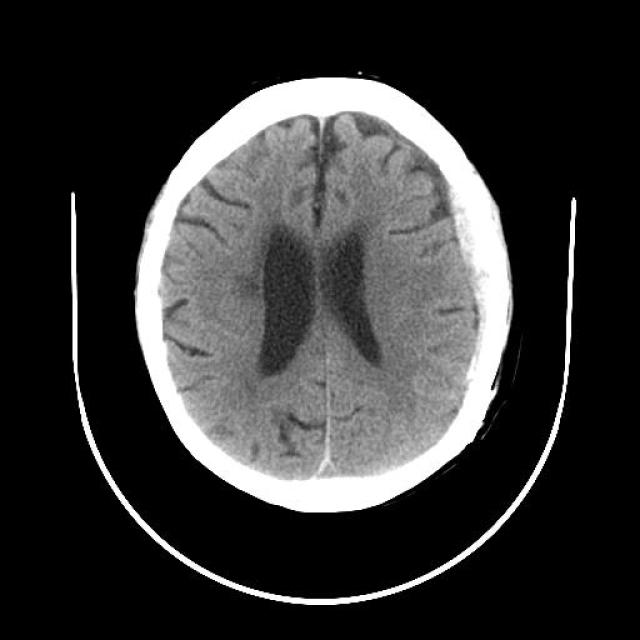Subdural: (438, 172, 512, 436)
